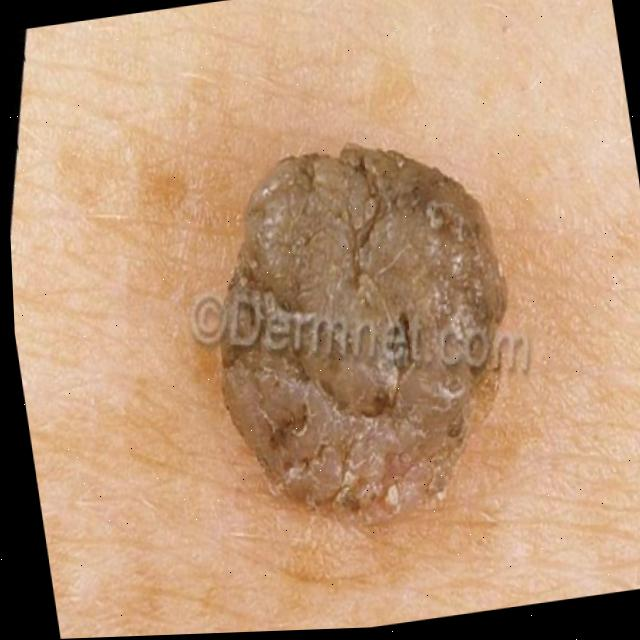Eczema: (223, 155, 474, 499)
